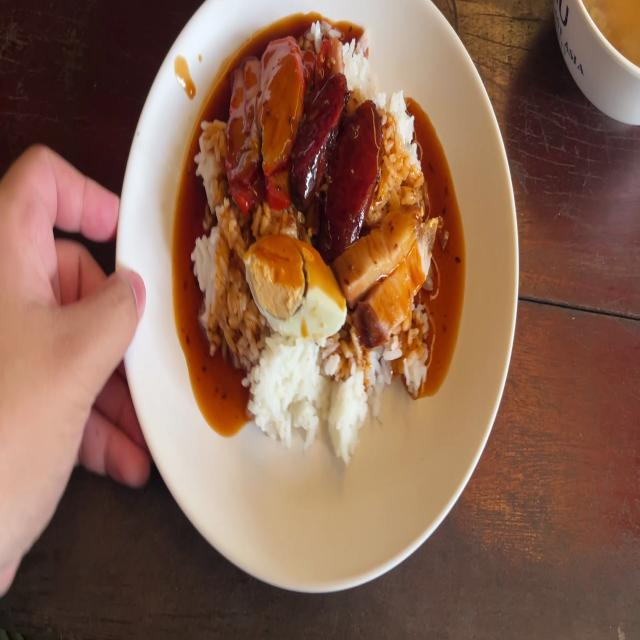red_pork_and_crispy_pork: (245, 232, 348, 336)
stir_fried_basil: (295, 77, 379, 248), (295, 75, 348, 208), (334, 100, 380, 240)
